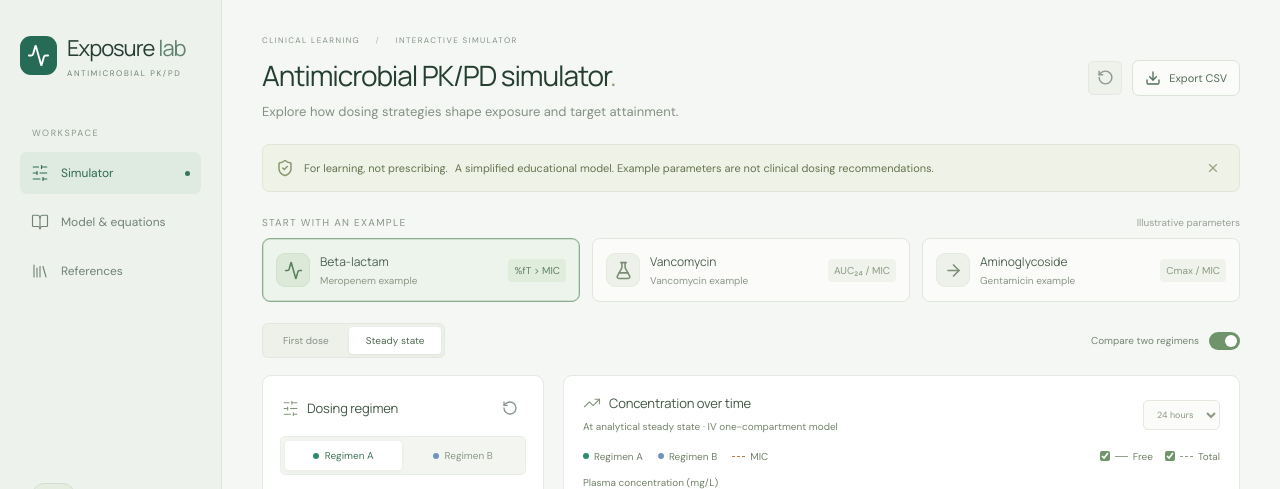
Test: simulator workflows › changes from steady state to first-dose exposure and preserves inputs
The width and height of the screenshot is (1280, 489).
Click the button "First dose" at (306, 340), box [266,327,346,354]
(page scrolled)
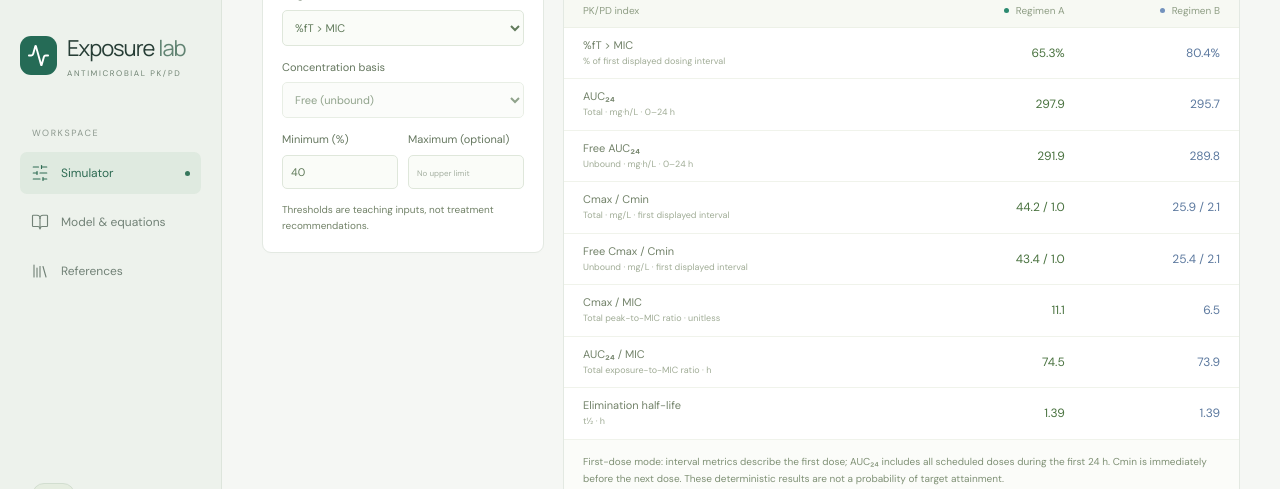
Check: the text "First-dose mode: interval metrics" is shown, box [583,454,1110,468]
